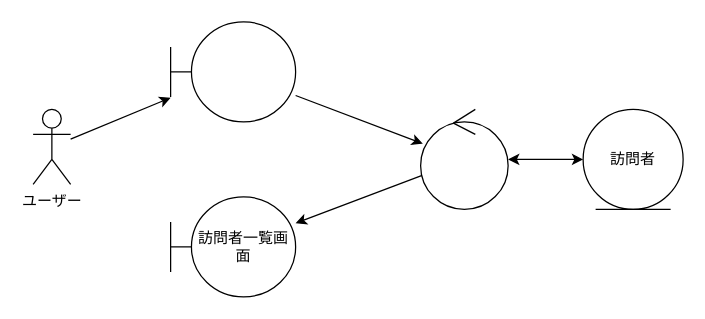
Image size: 705x319. Some labels were removed from this diagram. Here are the shapes that lost their labels. From the top down, the centre of each, then its label:
At pixel 232 71: "訪問者システムメニュー".
At pixel 463 158: "訪問者一覧表示".
